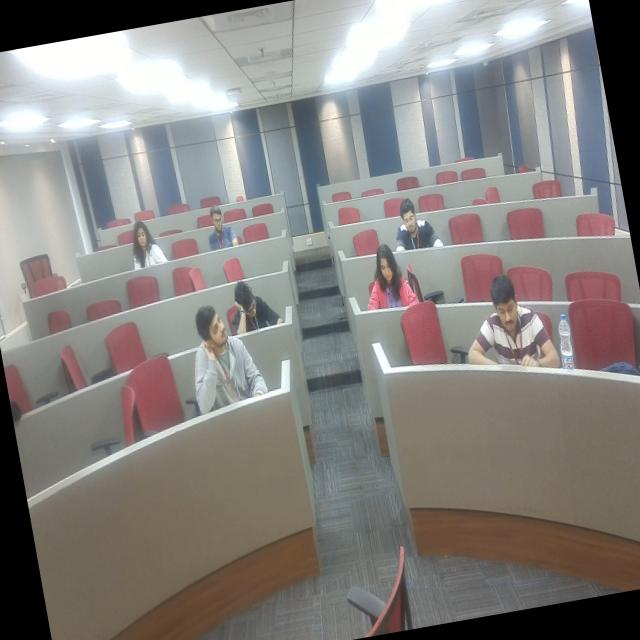non-cheating: (164, 266, 260, 427)
